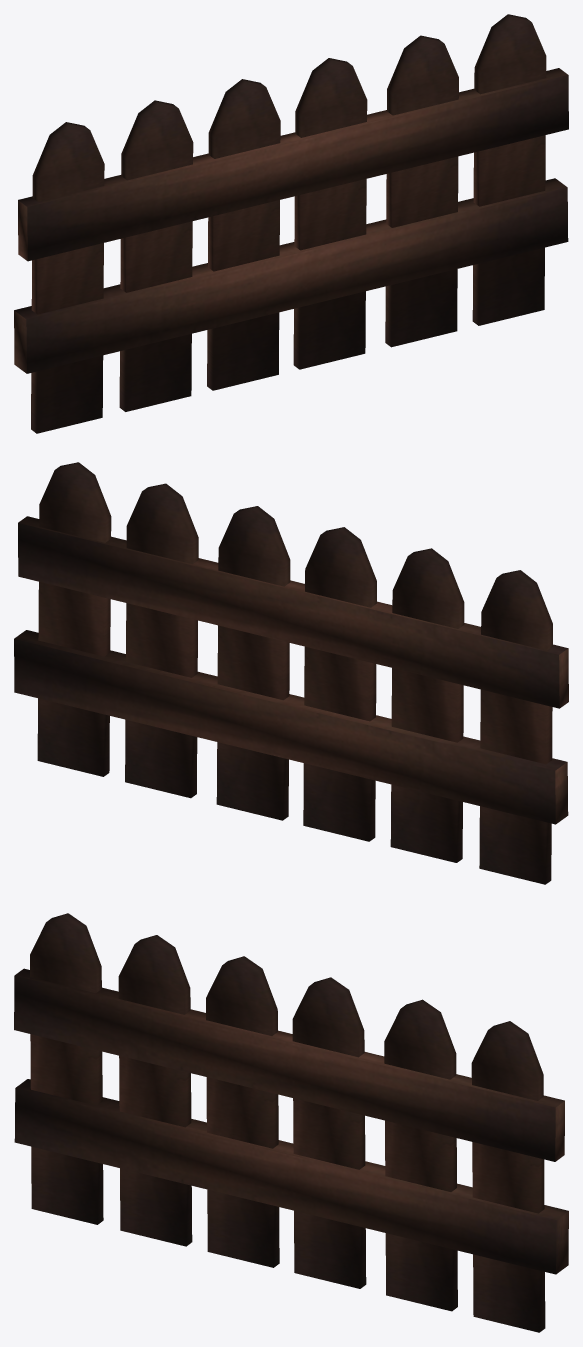
The model's file is tahta çit yeni.fbx.
3 views of the same model, one above another, from view 1: azimuth 30°, elevation 25°; view 2: azimuth 150°, elevation 25°; view 3: azimuth 330°, elevation 25° (orthographic).
Visible parts, largest first — view 1: Uçak.006; view 2: Uçak.006; view 3: Uçak.006.
Part boxes in pixels (left/top/right/bottom): Uçak.006: left=14, top=14, right=568, bottom=433; Uçak.006: left=14, top=462, right=568, bottom=884; Uçak.006: left=14, top=913, right=568, bottom=1332.
Bounding box in the file's own units: 144 × 76.66 × 6.33.
1 material, 1 textured.
